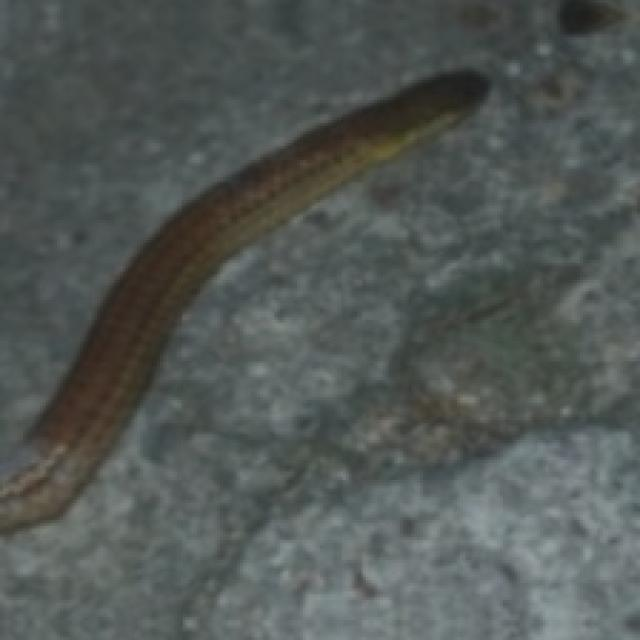gervais worm snake: (0, 69, 486, 531), (0, 71, 486, 531)
